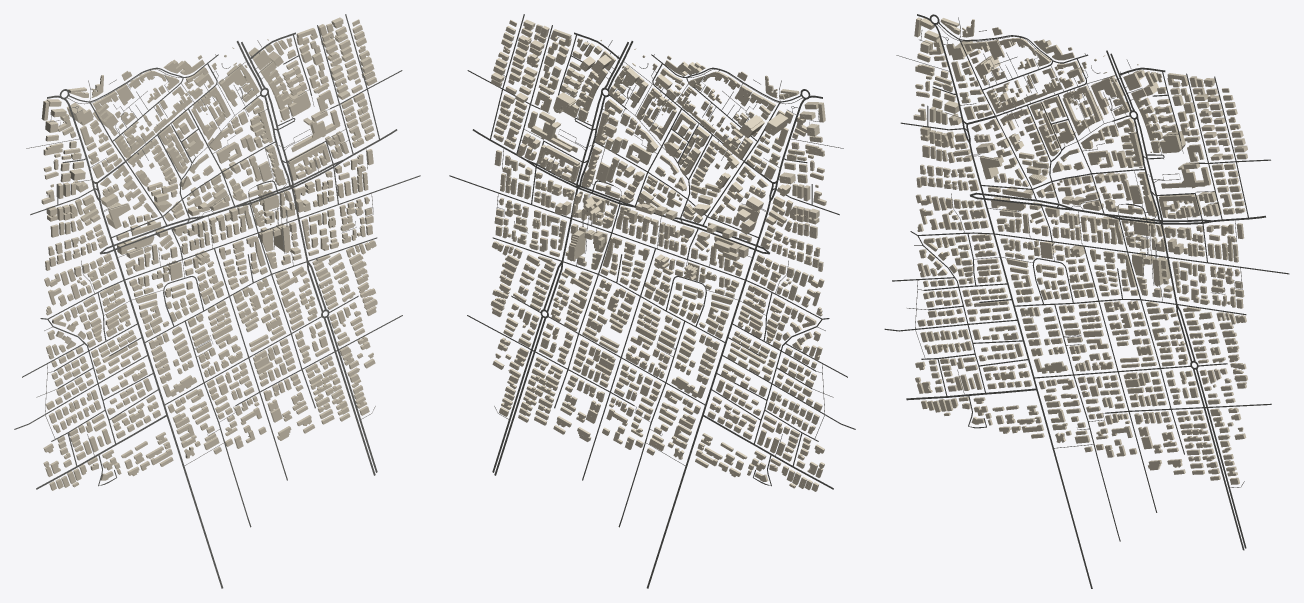
Rendered from historic-palestine-07_26_3488_3208.glb.
3 renders of one model, left to right at view 1: azimuth 30°, elevation 25°; view 2: azimuth 150°, elevation 25°; view 3: azimuth 330°, elevation 25°, orthographic.
Visible parts, largest first — view 1: Road רוטשילד.001, Road הרצל; view 2: Road רוטשילד.001, Road הרצל; view 3: Road רוטשילד.001, Road הרצל.
Part boxes in pixels (box(x1,y1,x2,y2)): Road רוטשילד.001: box(99, 200, 223, 588); Road הרצל: box(124, 175, 420, 280); Road רוטשילד.001: box(646, 200, 770, 588); Road הרצל: box(449, 175, 745, 280); Road רוטשילד.001: box(969, 143, 1092, 588); Road הרצל: box(994, 233, 1289, 274).
Bounding box in the file's own units: 1182 × 1513 × 69.4.
